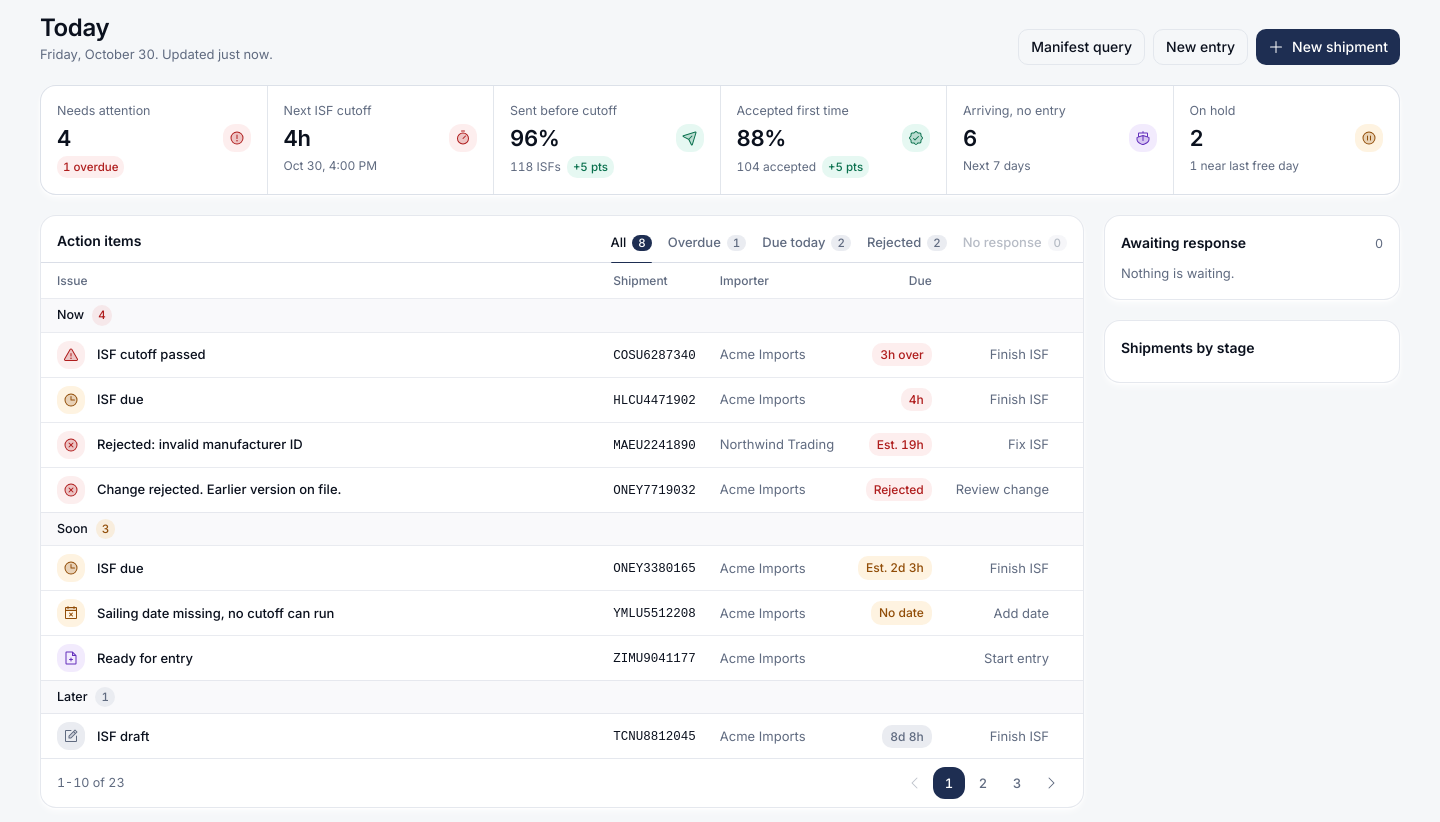
DashboardHome › goes back to the first page when the filter changes
Click the button named "Page 2" at (983, 783), box 967,767 -> 999,799
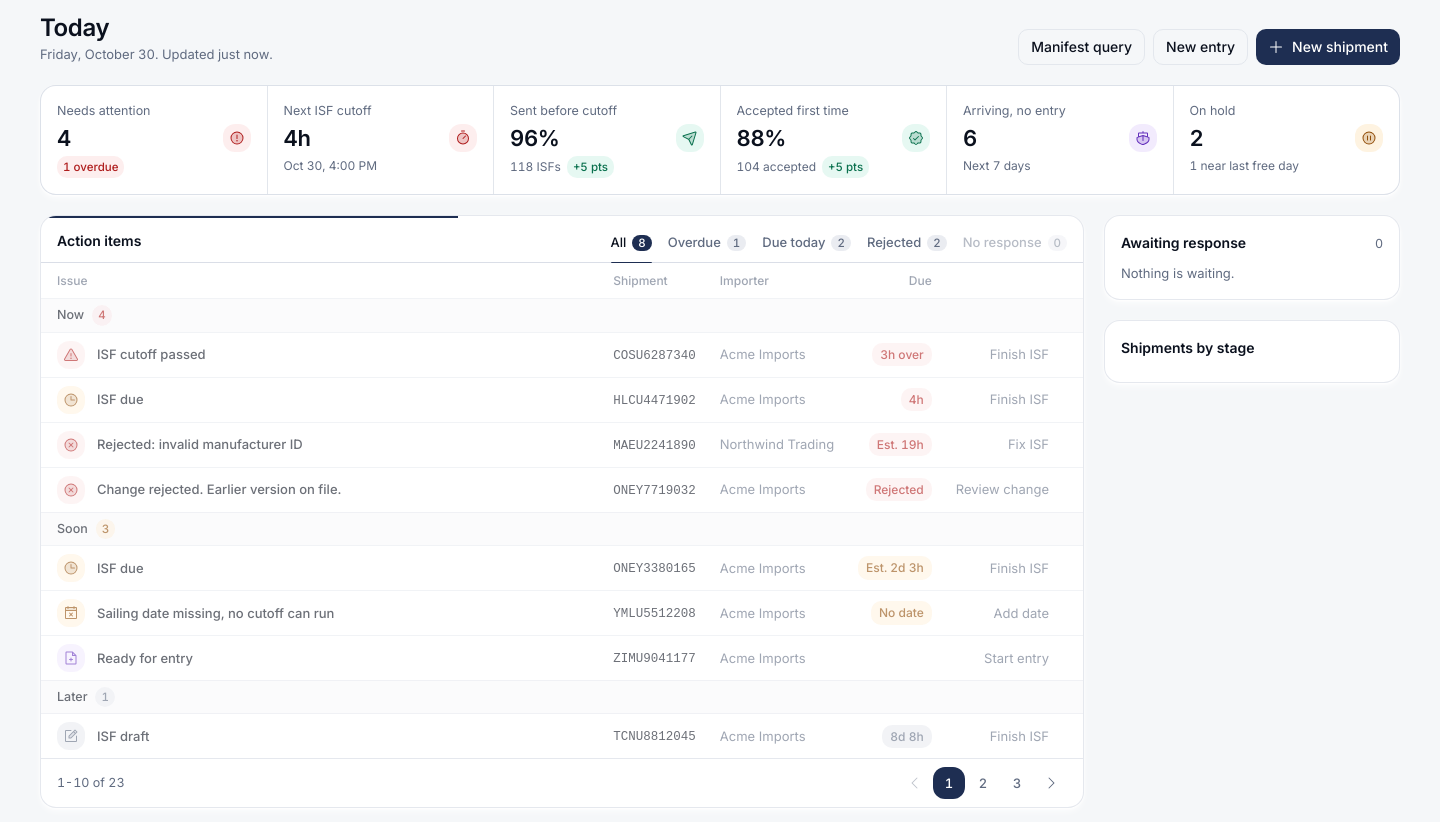
Click the button "Rejected2" at (907, 246), box 867,228 -> 947,263
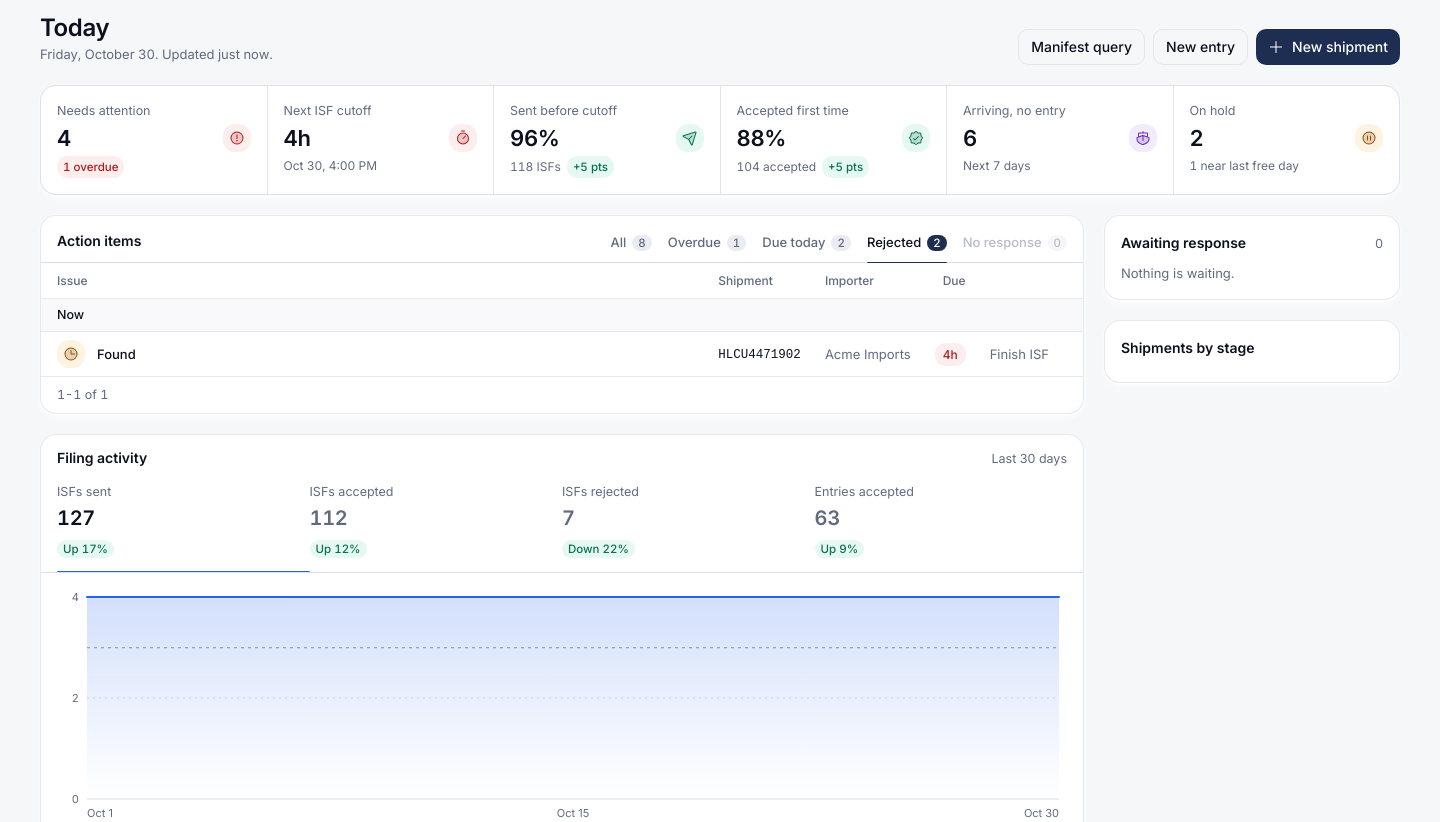
Expected: the text "1-1 of 1" is shown, 57,385 -> 108,405
